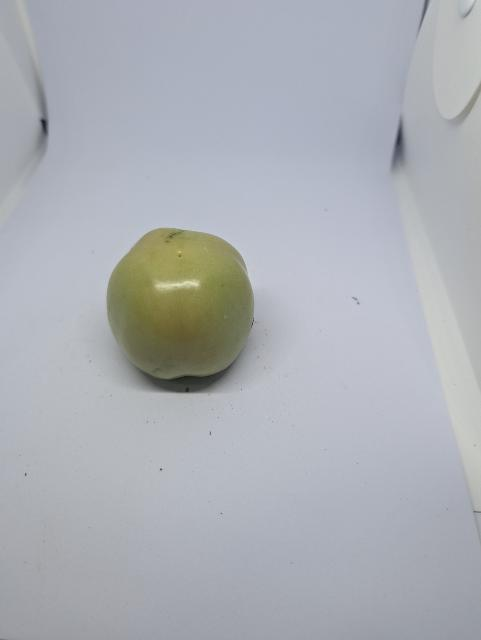green: (96, 212, 283, 402)
